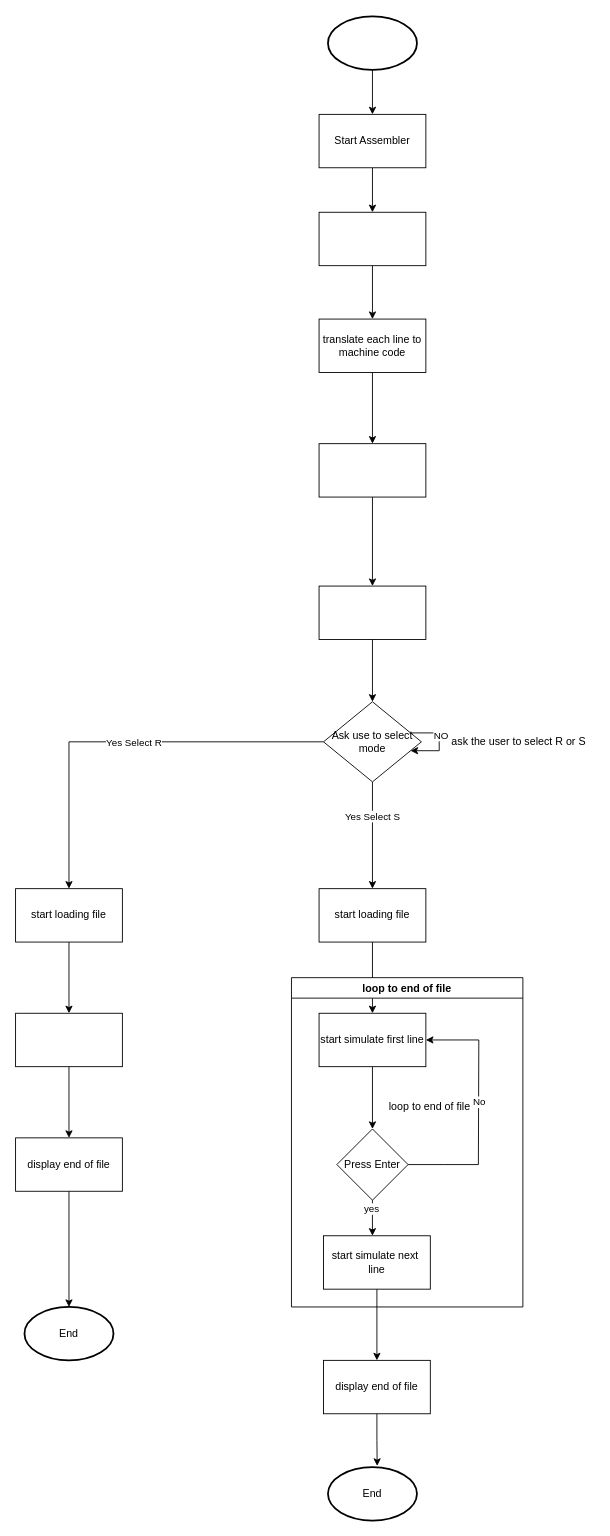
This 610x1536 diagram has some shape labels left out. The centre of each missing label's shape, as x and y in pixels:
save machine code in file: point (372, 470)
Start: point (372, 42)
Start reading file: point (372, 238)
start simulate: point (372, 612)
start simulate line by line and display information of each line: point (68, 1039)
